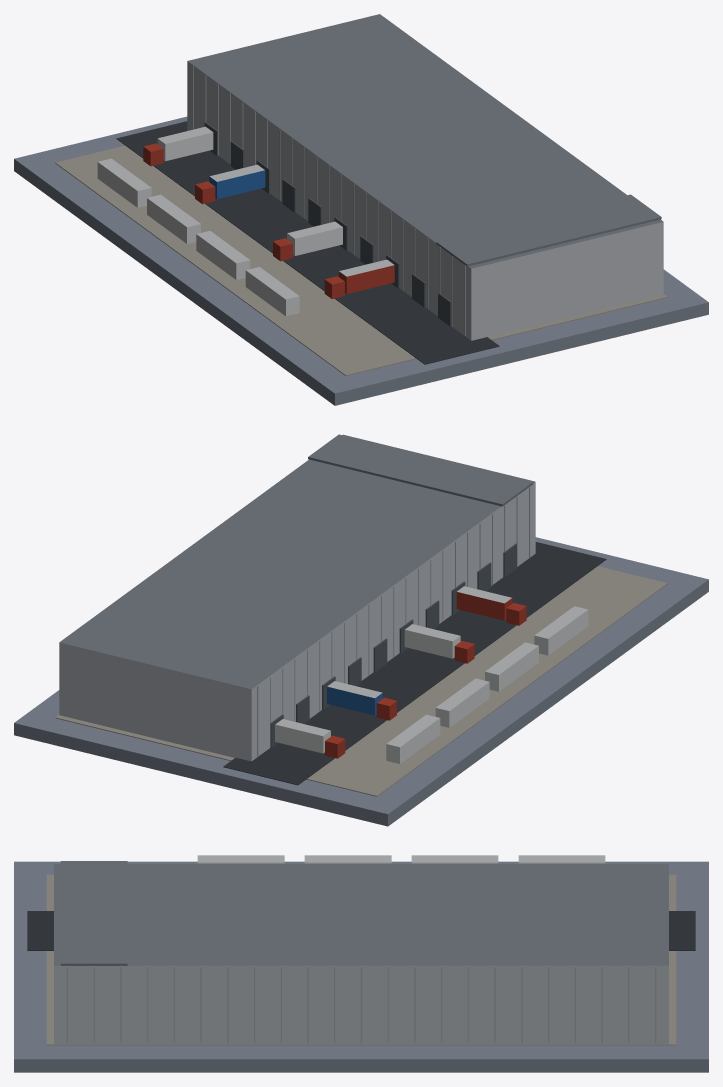
The model's file is warehouse.glb.
3 views of the same model, one above another, from view 1: azimuth 30°, elevation 25°; view 2: azimuth 150°, elevation 25°; view 3: azimuth 270°, elevation 25° (orthographic). The views are drawn at different scales.
Visible parts, largest first — view 1: warehouse; view 2: warehouse; view 3: warehouse.
Boxes of the visible parts, left/top/right/bottom form: warehouse: left=14, top=14, right=708, bottom=405; warehouse: left=14, top=434, right=708, bottom=826; warehouse: left=14, top=855, right=708, bottom=1072.
Size of the model in its own units: 70 by 15.75 by 104.
